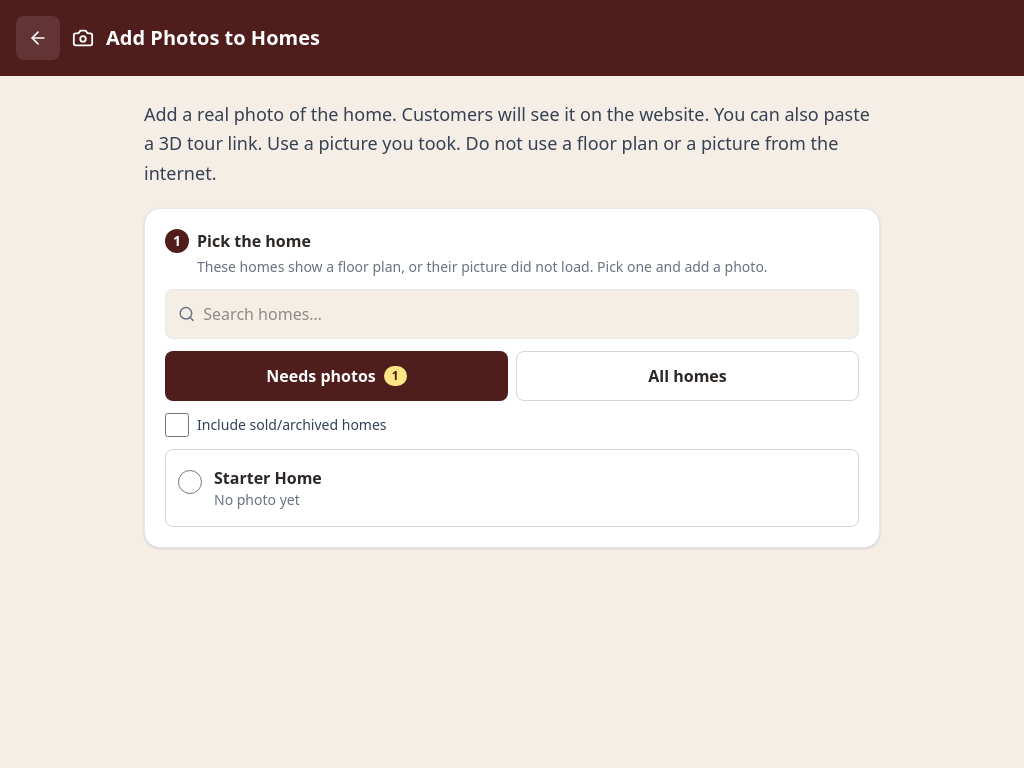
Photo Manager 3D tour link › does not treat a failed load as an empty tour
The image size is (1024, 768).
Click the radio button labelled "Starter Home No photo yet" at (190,482), box [178,470,202,494]
(page scrolled)
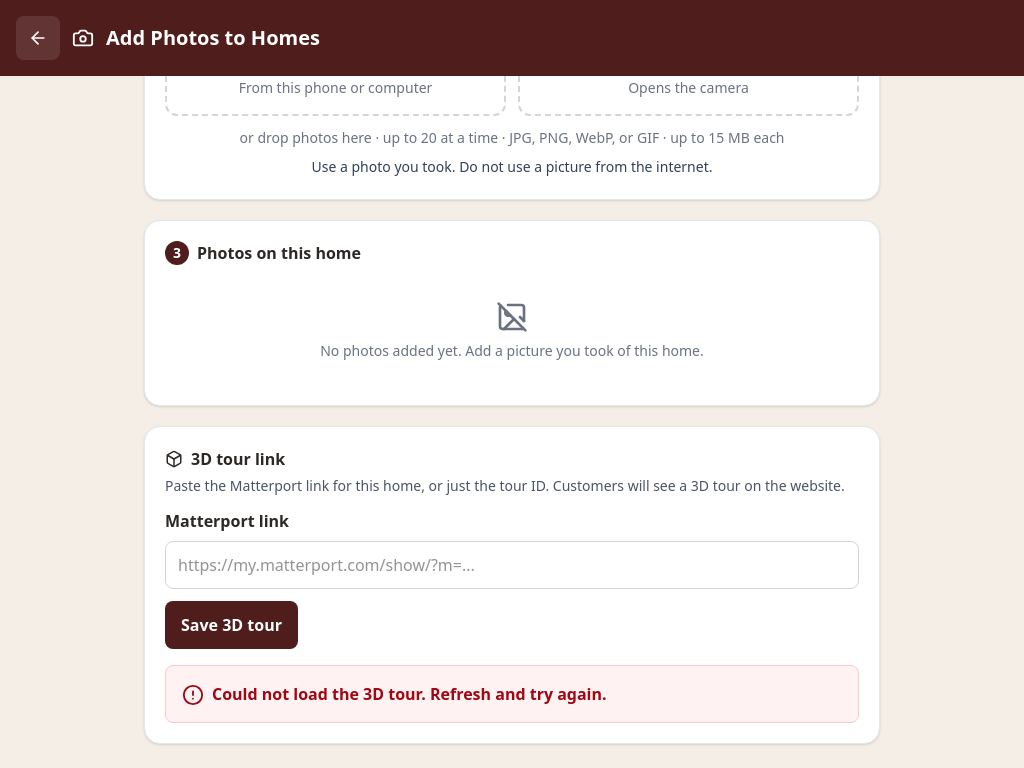
Now the message "Could not load the 3D tour. Refresh and try again." is shown, box [165,665,859,723]
